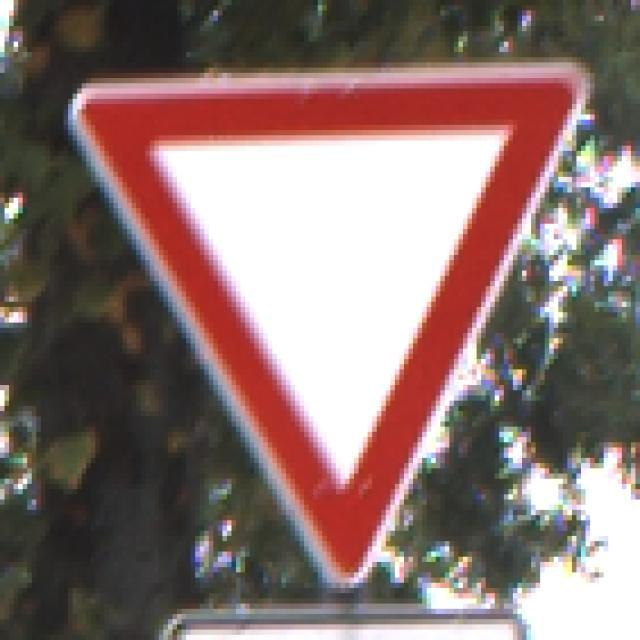give way: (67, 64, 601, 585)
